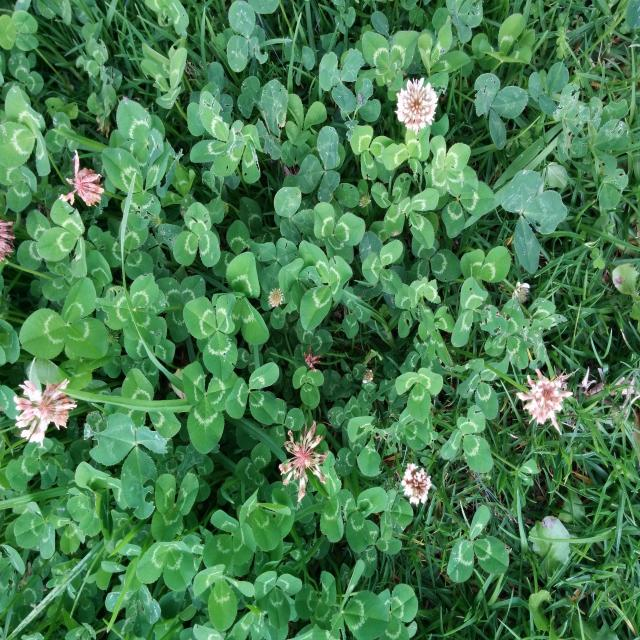Four Leaf Clover: (426, 135, 478, 197)
